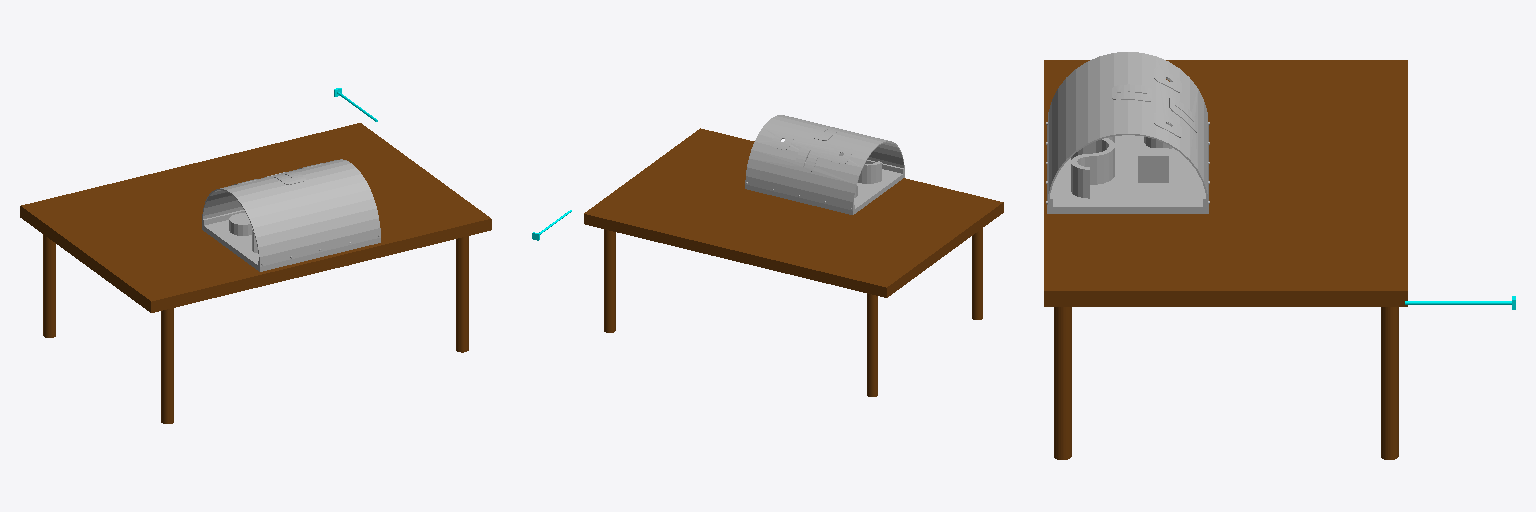
URDF robot description (ur5):
<?xml version="1.0" encoding="utf-8"?>
<robot name="ur5">
    <gazebo>
        <plugin name="gazebo_ros_control" filename="libgazebo_ros_control.so">
            <!-- <robotNamespace>/"ur5_with_table"</robotNamespace> -->
        </plugin>
    </gazebo>
    <link name="base_link">
        <visual>
            <geometry>
                <mesh filename="package://ur_description/meshes/ur5/visual/base.dae" />
            </geometry>
            <material name="LightGrey">
                <color rgba="0.7 0.7 0.7 1.0" />
            </material>
        </visual>
        <collision>
            <geometry>
                <mesh filename="package://ur_description/meshes/ur5/collision/base.stl" />
            </geometry>
        </collision>
        <inertial>
            <mass value="4.0" />
            <origin rpy="0 0 0" xyz="0.0 0.0 0.0" />
            <inertia ixx="0.00443333156" ixy="0.0" ixz="0.0" iyy="0.00443333156" iyz="0.0"
                izz="0.0072" />
        </inertial>
    </link>
    <joint name="shoulder_pan_joint" type="revolute">
        <parent link="base_link" />
        <child link="shoulder_link" />
        <origin rpy="0.0 0.0 0.0" xyz="0.0 0.0 0.089159" />
        <axis xyz="0 0 1" />
        <limit effort="150.0" lower="-3.14159265" upper="3.14159265" velocity="3.15" />
        <dynamics damping="0.0" friction="0.0" />
    </joint>
    <link name="shoulder_link">
        <visual>
            <geometry>
                <mesh filename="package://ur_description/meshes/ur5/visual/shoulder.dae" />
            </geometry>
            <material name="LightGrey">
                <color rgba="0.7 0.7 0.7 1.0" />
            </material>
        </visual>
        <collision>
            <geometry>
                <mesh filename="package://ur_description/meshes/ur5/collision/shoulder.stl" />
            </geometry>
        </collision>
        <inertial>
            <mass value="3.7" />
            <origin rpy="0 0 0" xyz="0.0 0.0 0.0" />
            <inertia ixx="0.010267495893" ixy="0.0" ixz="0.0" iyy="0.010267495893" iyz="0.0"
                izz="0.00666" />
        </inertial>
    </link>
    <joint name="shoulder_lift_joint" type="revolute">
        <parent link="shoulder_link" />
        <child link="upper_arm_link" />
        <origin rpy="0.0 1.570796325 0.0" xyz="0.0 0.13585 0.0" />
        <axis xyz="0 1 0" />
        <limit effort="150.0" lower="-3.14159265" upper="3.14159265" velocity="3.15" />
        <dynamics damping="0.0" friction="0.0" />
    </joint>
    <link name="upper_arm_link">
        <visual>
            <geometry>
                <mesh filename="package://ur_description/meshes/ur5/visual/upperarm.dae" />
            </geometry>
            <material name="LightGrey">
                <color rgba="0.7 0.7 0.7 1.0" />
            </material>
        </visual>
        <collision>
            <geometry>
                <mesh filename="package://ur_description/meshes/ur5/collision/upperarm.stl" />
            </geometry>
        </collision>
        <inertial>
            <mass value="8.393" />
            <origin rpy="0 0 0" xyz="0.0 0.0 0.28" />
            <inertia ixx="0.22689067591" ixy="0.0" ixz="0.0" iyy="0.22689067591" iyz="0.0"
                izz="0.0151074" />
        </inertial>
    </link>
    <joint name="elbow_joint" type="revolute">
        <parent link="upper_arm_link" />
        <child link="forearm_link" />
        <origin rpy="0.0 0.0 0.0" xyz="0.0 -0.1197 0.425" />
        <axis xyz="0 1 0" />
        <limit effort="150.0" lower="-3.14159265" upper="3.14159265" velocity="3.15" />
        <dynamics damping="0.0" friction="0.0" />
    </joint>
    <link name="forearm_link">
        <visual>
            <geometry>
                <mesh filename="package://ur_description/meshes/ur5/visual/forearm.dae" />
            </geometry>
            <material name="LightGrey">
                <color rgba="0.7 0.7 0.7 1.0" />
            </material>
        </visual>
        <collision>
            <geometry>
                <mesh filename="package://ur_description/meshes/ur5/collision/forearm.stl" />
            </geometry>
        </collision>
        <inertial>
            <mass value="2.275" />
            <origin rpy="0 0 0" xyz="0.0 0.0 0.25" />
            <inertia ixx="0.049443313556" ixy="0.0" ixz="0.0" iyy="0.049443313556" iyz="0.0"
                izz="0.004095" />
        </inertial>
    </link>
    <joint name="wrist_1_joint" type="revolute">
        <parent link="forearm_link" />
        <child link="wrist_1_link" />
        <origin rpy="0.0 1.570796325 0.0" xyz="0.0 0.0 0.39225" />
        <axis xyz="0 1 0" />
        <limit effort="28.0" lower="-3.14159265" upper="3.14159265" velocity="3.2" />
        <dynamics damping="0.0" friction="0.0" />
    </joint>
    <link name="wrist_1_link">
        <visual>
            <geometry>
                <mesh filename="package://ur_description/meshes/ur5/visual/wrist1.dae" />
            </geometry>
            <material name="LightGrey">
                <color rgba="0.7 0.7 0.7 1.0" />
            </material>
        </visual>
        <collision>
            <geometry>
                <mesh filename="package://ur_description/meshes/ur5/collision/wrist1.stl" />
            </geometry>
        </collision>
        <inertial>
            <mass value="1.219" />
            <origin rpy="0 0 0" xyz="0.0 0.0 0.0" />
            <inertia ixx="0.111172755531" ixy="0.0" ixz="0.0" iyy="0.111172755531" iyz="0.0"
                izz="0.21942" />
        </inertial>
    </link>
    <joint name="wrist_2_joint" type="revolute">
        <parent link="wrist_1_link" />
        <child link="wrist_2_link" />
        <origin rpy="0.0 0.0 0.0" xyz="0.0 0.093 0.0" />
        <axis xyz="0 0 1" />
        <limit effort="28.0" lower="-3.14159265" upper="3.14159265" velocity="3.2" />
        <dynamics damping="0.0" friction="0.0" />
    </joint>
    <link name="wrist_2_link">
        <visual>
            <geometry>
                <mesh filename="package://ur_description/meshes/ur5/visual/wrist2.dae" />
            </geometry>
            <material name="LightGrey">
                <color rgba="0.7 0.7 0.7 1.0" />
            </material>
        </visual>
        <collision>
            <geometry>
                <mesh filename="package://ur_description/meshes/ur5/collision/wrist2.stl" />
            </geometry>
        </collision>
        <inertial>
            <mass value="1.219" />
            <origin rpy="0 0 0" xyz="0.0 0.0 0.0" />
            <inertia ixx="0.111172755531" ixy="0.0" ixz="0.0" iyy="0.111172755531" iyz="0.0"
                izz="0.21942" />
        </inertial>
    </link>
    <joint name="wrist_3_joint" type="revolute">
        <parent link="wrist_2_link" />
        <child link="wrist_3_link" />
        <origin rpy="0.0 0.0 0.0" xyz="0.0 0.0 0.09465" />
        <axis xyz="0 1 0" />
        <limit effort="28.0" lower="-3.14159265" upper="3.14159265" velocity="3.2" />
        <dynamics damping="0.0" friction="0.0" />
    </joint>
    <link name="wrist_3_link">
        <visual>
            <geometry>
                <mesh filename="package://ur_description/meshes/ur5/visual/wrist3.dae" />
            </geometry>
            <material name="LightGrey">
                <color rgba="0.7 0.7 0.7 1.0" />
            </material>
        </visual>
        <collision>
            <geometry>
                <mesh filename="package://ur_description/meshes/ur5/collision/wrist3.stl" />
            </geometry>
        </collision>
        <inertial>
            <mass value="0.1879" />
            <origin rpy="0 0 0" xyz="0.0 0.0 0.0" />
            <inertia ixx="0.0171364731454" ixy="0.0" ixz="0.0" iyy="0.0171364731454" iyz="0.0"
                izz="0.033822" />
        </inertial>
    </link>
    <joint name="ee_fixed_joint" type="fixed">
        <parent link="wrist_3_link" />
        <child link="ee_link" />
        <origin rpy="1.570796325 0.0 0.0" xyz="0.0 0.0823 0.0" />
    </joint>
    <link name="ee_link">
        <visual>
            <geometry>
                <cylinder radius="0.005" length="0.3" />
            </geometry>
            <material name="Cyan">
                <color rgba="0.0 1.0 1.0 1.0" />
            </material>
            <origin rpy="0 0 0" xyz="0.0 0.0 -0.15" />
        </visual>
        <collision>
            <geometry>
                <cylinder radius="0.005" length="0.3" />
            </geometry>
            <origin rpy="0 0 0" xyz="0.0 0.0 -0.15" />
        </collision>
        <!-- <light>
      <id>cylinder/light_source1</id>
      <duration>0.5</duration>
      <interval>0.5</interval>
    </light> -->
        <inertial>
            <mass value="0.1" />
            <origin xyz="0 0 0" rpy="0 0 0" />
            <inertia ixx="0.03" iyy="0.03" izz="0.03" ixy="0.0" ixz="0.0" iyz="0.0" />
        </inertial>
    </link>
    <!-- <gazebo reference="wrist_3_link">
    <light name='cylinder/light_source1' type='spot'>
</light>
    <plugin name='light_control' filename='libFlashLightPlugin.so'>
      <enable>true</enable>
      <light>
        <id>cylinder/light_source1</id>
        <duration>0.5</duration>
        <interval>0.5</interval>
      </light>
    </plugin>
    <selfCollide>false</selfCollide>
  </gazebo> -->
    <joint name="camera_joint" type="fixed">
        <parent link="ee_link" />
        <child link="camera_link" />
        <origin xyz="0 0 -0.3" rpy="0 1.570796325 0" />
    </joint>
    <link name="camera_link">
        <visual>
            <geometry>
                <box size="0.010 0.03 0.03" />
            </geometry>
            <material name="Cyan">
                <color rgba="0.0 1.0 1.0 1.0" />
            </material>
        </visual>
    </link>
    <joint name="camera_optical_joint" type="fixed">
        <parent link="camera_link" />
        <child link="camera_link_optical" />
        <origin xyz="0 0 0.3" rpy="-1.570796325 0 -1.570796325" />
    </joint>
    <link name="camera_link_optical" />
    <gazebo reference="camera_link">
        <material>Gazebo/Red</material>
        <sensor name="camera" type="camera">
            <pose>0 0 0 0 0 0</pose>
            <visualize>true</visualize>
            <update_rate>10</update_rate>
            <camera>
                <horizontal_fov>1.089</horizontal_fov>
                <image>
                    <format>R8G8B8</format>
                    <width>640</width>
                    <height>480</height>
                </image>
                <clip>
                    <near>0.05</near>
                    <far>8.0</far>
                </clip>
            </camera>
            <plugin name="camera_controller" filename="libgazebo_ros_camera.so">
                <frame_name>camera_link_optical</frame_name>
            </plugin>
        </sensor>
    </gazebo>
    <transmission name="shoulder_pan_trans">
        <type>transmission_interface/SimpleTransmission</type>
        <joint name="shoulder_pan_joint">
            <hardwareInterface>hardware_interface/EffortJointInterface</hardwareInterface>
        </joint>
        <actuator name="shoulder_pan_motor">
            <mechanicalReduction>1</mechanicalReduction>
            <hardwareInterface>hardware_interface/EffortJointInterface</hardwareInterface>
        </actuator>
    </transmission>
    <transmission name="shoulder_lift_trans">
        <type>transmission_interface/SimpleTransmission</type>
        <joint name="shoulder_lift_joint">
            <hardwareInterface>hardware_interface/EffortJointInterface</hardwareInterface>
        </joint>
        <actuator name="shoulder_lift_motor">
            <mechanicalReduction>1</mechanicalReduction>
            <hardwareInterface>hardware_interface/EffortJointInterface</hardwareInterface>
        </actuator>
    </transmission>
    <transmission name="elbow_trans">
        <type>transmission_interface/SimpleTransmission</type>
        <joint name="elbow_joint">
            <hardwareInterface>hardware_interface/EffortJointInterface</hardwareInterface>
        </joint>
        <actuator name="elbow_motor">
            <mechanicalReduction>1</mechanicalReduction>
            <hardwareInterface>hardware_interface/EffortJointInterface</hardwareInterface>
        </actuator>
    </transmission>
    <transmission name="wrist_1_trans">
        <type>transmission_interface/SimpleTransmission</type>
        <joint name="wrist_1_joint">
            <hardwareInterface>hardware_interface/EffortJointInterface</hardwareInterface>
        </joint>
        <actuator name="wrist_1_motor">
            <mechanicalReduction>1</mechanicalReduction>
            <hardwareInterface>hardware_interface/EffortJointInterface</hardwareInterface>
        </actuator>
    </transmission>
    <transmission name="wrist_2_trans">
        <type>transmission_interface/SimpleTransmission</type>
        <joint name="wrist_2_joint">
            <hardwareInterface>hardware_interface/EffortJointInterface</hardwareInterface>
        </joint>
        <actuator name="wrist_2_motor">
            <mechanicalReduction>1</mechanicalReduction>
            <hardwareInterface>hardware_interface/EffortJointInterface</hardwareInterface>
        </actuator>
    </transmission>
    <transmission name="wrist_3_trans">
        <type>transmission_interface/SimpleTransmission</type>
        <joint name="wrist_3_joint">
            <hardwareInterface>hardware_interface/EffortJointInterface</hardwareInterface>
        </joint>
        <actuator name="wrist_3_motor">
            <mechanicalReduction>1</mechanicalReduction>
            <hardwareInterface>hardware_interface/EffortJointInterface</hardwareInterface>
        </actuator>
    </transmission>
    <!-- define the ur5's position and orientation in the world coordinate system -->
    <link name="world" />
    <joint name="world_robot_joint" type="fixed">
        <parent link="world" />
        <child link="base_link" />
        <!-- TODO: check base_link name of robot -->
        <origin rpy="0.0 0.0 0.0" xyz="0.0 0.0 0.05" />
    </joint>
    <joint name="world_table_joint" type="fixed">
        <parent link="world" />
        <child link="table_top" />
        <!-- TODO: check base_link name of robot -->
        <origin rpy="0.0 0.0 0.0" xyz="0.0 -0.3 0.025" />
    </joint>
    <joint name="world_stomach_joint" type="fixed">
        <parent link="world" />
        <child link="stomach_link" />
        <!-- TODO: check base_link name of robot -->
        <origin rpy="0.0 0.0 1.570796325" xyz="0.0 -0.57 0.08" />
    </joint>
    <link name="stomach_link">
        <inertial>
            <origin xyz="-0.00116958816636348 0.00194191798200065 0.0163617422794715" rpy="0 0 0" />
            <mass value="1.67854287309931" />
            <inertia ixx="0.0127919503513295" ixy="-0.000351502262622538" ixz="0.000129139947884529"
                iyy="0.0101141052014532" iyz="-2.2641300307581E-05" izz="0.0214244565663922" />
        </inertial>
        <visual>
            <origin xyz="0 0 0" rpy="0 0 0" />
            <geometry>
                <mesh filename="package://round_trainer_edited/meshes/base_link.STL"
                    scale="1.75 1.75 1.75" />
            </geometry>
            <material name="">
                <color rgba="0.752941176470588 0.752941176470588 0.752941176470588 1" />
            </material>
        </visual>
        <collision>
            <origin xyz="0 0 0" rpy="0 0 0" />
            <geometry>
                <mesh filename="package://round_trainer_edited/meshes/base_link.STL"
                    scale="1.75 1.75 1.75" />
            </geometry>
        </collision>
    </link>
    <gazebo reference="stomach_link">
        <material>Gazebo/Orange</material>
    </gazebo>
    <!-- Table Top -->
    <link name="table_top">
        <visual>
            <geometry>
                <box size="1.5 1.0 0.05" />
                <!-- Length: 1.5m, Width: 1 m, Thickness: 0.05m -->
            </geometry>
            <material name="Brown">
                <color rgba="0.5 0.3 0.1 1.0" />
                <!-- Brown color -->
            </material>
        </visual>
        <collision>
            <geometry>
                <box size="1.5 1.0 0.05" />
            </geometry>
        </collision>
        <inertial>
            <mass value="1.0" />
            <!-- Table mass -->
            <inertia ixx="0.01" iyy="0.01" izz="0.01" ixy="0.0" ixz="0.0" iyz="0.0" />
            <origin xyz="0 0 0" rpy="0 0 0" />
        </inertial>
    </link>
    <gazebo reference="table_top">
        <material>Gazebo/Wood</material>
    </gazebo>
    <!-- Table Legs -->
    <link name="table_leg_1">
        <visual>
            <geometry>
                <cylinder length="0.5" radius="0.025" />
                <!-- Height: 0.5m, Radius: 0.025m -->
            </geometry>
            <material name="Brown">
                <color rgba="0.5 0.3 0.1 1.0" />
            </material>
        </visual>
        <collision>
            <geometry>
                <cylinder length="0.5" radius="0.025" />
            </geometry>
        </collision>
        <inertial>
            <mass value="0.1" />
            <inertia ixx="0.001" iyy="0.001" izz="0.001" ixy="0.0" ixz="0.0" iyz="0.0" />
            <origin xyz="0 0 0" rpy="0 0 0" />
        </inertial>
    </link>
    <link name="table_leg_2">
        <visual>
            <geometry>
                <cylinder length="0.5" radius="0.025" />
            </geometry>
            <material name="Brown">
                <color rgba="0.5 0.3 0.1 1.0" />
            </material>
        </visual>
        <collision>
            <geometry>
                <cylinder length="0.5" radius="0.025" />
            </geometry>
        </collision>
        <inertial>
            <mass value="0.1" />
            <inertia ixx="0.001" iyy="0.001" izz="0.001" ixy="0.0" ixz="0.0" iyz="0.0" />
            <origin xyz="0 0 0" rpy="0 0 0" />
        </inertial>
    </link>
    <link name="table_leg_3">
        <visual>
            <geometry>
                <cylinder length="0.5" radius="0.025" />
            </geometry>
            <material name="Brown">
                <color rgba="0.5 0.3 0.1 1.0" />
            </material>
        </visual>
        <collision>
            <geometry>
                <cylinder length="0.5" radius="0.025" />
            </geometry>
        </collision>
        <inertial>
            <mass value="0.1" />
            <inertia ixx="0.001" iyy="0.001" izz="0.001" ixy="0.0" ixz="0.0" iyz="0.0" />
            <origin xyz="0 0 0" rpy="0 0 0" />
        </inertial>
    </link>
    <link name="table_leg_4">
        <visual>
            <geometry>
                <cylinder length="0.5" radius="0.025" />
            </geometry>
            <material name="Brown">
                <color rgba="0.5 0.3 0.1 1.0" />
            </material>
        </visual>
        <collision>
            <geometry>
                <cylinder length="0.5" radius="0.025" />
            </geometry>
        </collision>
        <inertial>
            <mass value="0.1" />
            <inertia ixx="0.001" iyy="0.001" izz="0.001" ixy="0.0" ixz="0.0" iyz="0.0" />
            <origin xyz="0 0 0" rpy="0 0 0" />
        </inertial>
    </link>
    <!-- Joints to connect legs to the table top -->
    <joint name="joint_leg_1" type="fixed">
        <parent link="table_top" />
        <child link="table_leg_1" />
        <origin xyz="-0.65 -0.45 -0.275" rpy="0 0 0" />
    </joint>
    <joint name="joint_leg_2" type="fixed">
        <parent link="table_top" />
        <child link="table_leg_2" />
        <origin xyz="0.65 -0.45 -0.275" rpy="0 0 0" />
    </joint>
    <joint name="joint_leg_3" type="fixed">
        <parent link="table_top" />
        <child link="table_leg_3" />
        <origin xyz="-0.65 0.45 -0.275" rpy="0 0 0" />
    </joint>
    <joint name="joint_leg_4" type="fixed">
        <parent link="table_top" />
        <child link="table_leg_4" />
        <origin xyz="0.65 0.45 -0.275" rpy="0 0 0" />
    </joint>
    <gazebo>
        <self_collide>true</self_collide>
    </gazebo>
</robot>

--- Render facts (derived) ---
3 views of the same robot in one strip: view 1: azimuth 30°, elevation 25°; view 2: azimuth 150°, elevation 25°; view 3: azimuth 270°, elevation 25° (orthographic).
Model ur5 with 17 links and 16 joints (6 revolute, 10 fixed), rooted at world, posed all joints at 0.
Visible links, largest first — view 1: table_top, stomach_link, table_leg_2, table_leg_1, table_leg_3; view 2: table_top, stomach_link, table_leg_4, table_leg_3, table_leg_1; view 3: table_top, stomach_link, table_leg_2, table_leg_4.
Link boxes in pixels (left/top/right/bottom): table_top: left=20, top=123, right=491, bottom=312; stomach_link: left=202, top=159, right=380, bottom=271; table_leg_2: left=456, top=236, right=468, bottom=352; table_leg_1: left=161, top=308, right=173, bottom=423; table_leg_3: left=43, top=234, right=55, bottom=337; table_top: left=584, top=128, right=1003, bottom=297; stomach_link: left=745, top=115, right=904, bottom=214; table_leg_4: left=604, top=229, right=615, bottom=332; table_leg_3: left=867, top=294, right=877, bottom=396; table_leg_1: left=972, top=228, right=982, bottom=319; table_top: left=1044, top=60, right=1407, bottom=306; stomach_link: left=1046, top=52, right=1209, bottom=213; table_leg_2: left=1054, top=307, right=1071, bottom=459; table_leg_4: left=1381, top=307, right=1398, bottom=459.
Bounding box of the posed robot: 1.58 × 1.3 × 0.8044 m (x, y, z).
1 mesh visuals loaded from 8 distinct referenced files (1 binary STL); not drawn: 7 (reference not matched to a file when rendering).